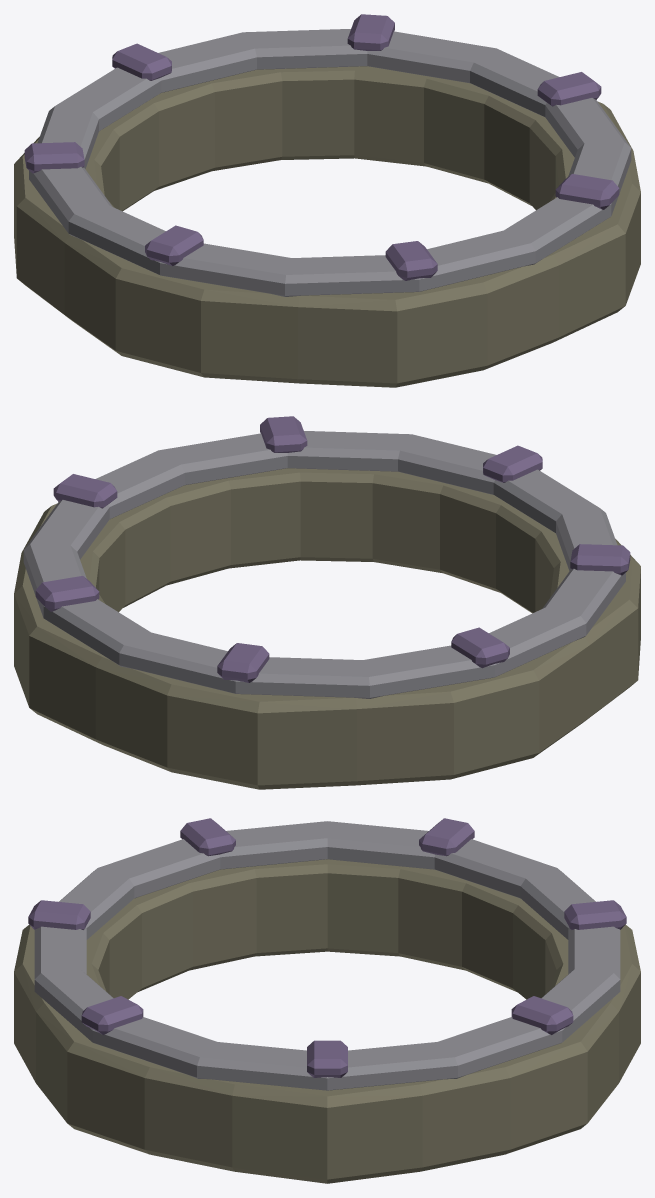
File: STAR_TELEPORT_PAD.lo.glb
3 renders of one model, top to bottom at view 1: azimuth 30°, elevation 25°; view 2: azimuth 150°, elevation 25°; view 3: azimuth 270°, elevation 25°, orthographic.
Parts seen in each view (by area): view 1: Body_Mesh; view 2: Body_Mesh; view 3: Body_Mesh.
Boxes of the visible parts, box(x1,y1,x2,y2) form: Body_Mesh: box(14, 14, 640, 387); Body_Mesh: box(14, 416, 640, 789); Body_Mesh: box(14, 818, 640, 1183).
Bounding box in the file's own units: 1.3 × 0.2695 × 1.3.
